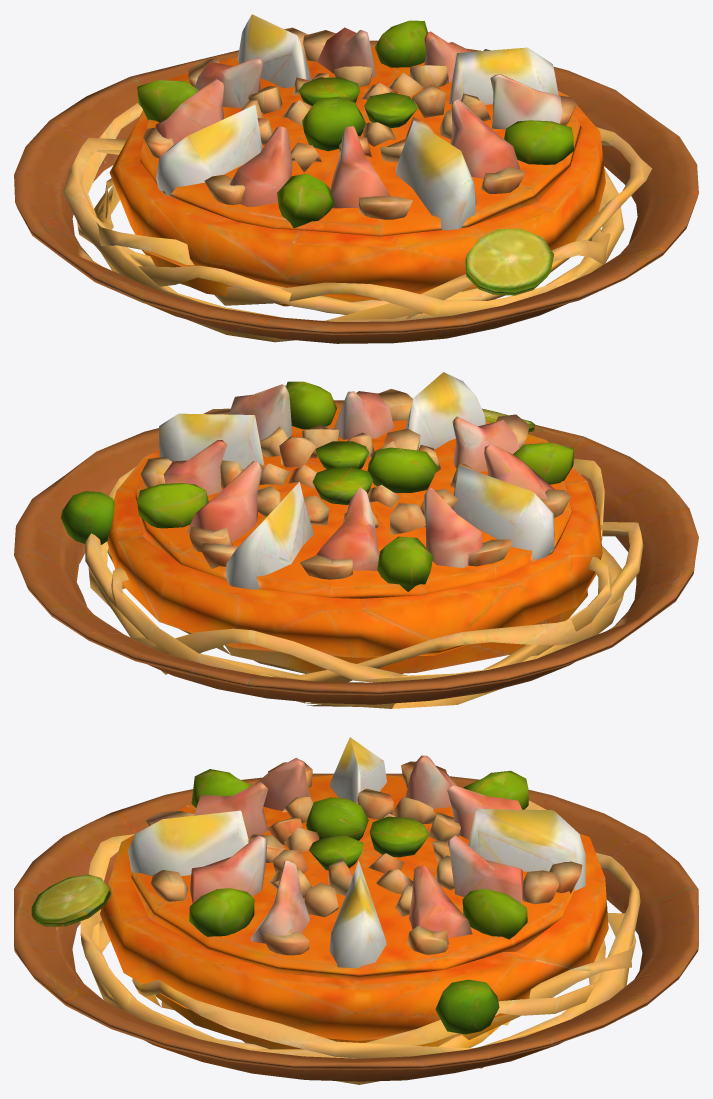
The model's file is palabok.glb.
3 views of the same model, one above another, from view 1: azimuth 30°, elevation 25°; view 2: azimuth 150°, elevation 25°; view 3: azimuth 270°, elevation 25° (orthographic).
Parts seen in each view (by area): view 1: geometry_0; view 2: geometry_0; view 3: geometry_0.
Boxes of the visible parts, x1,y1,x2,y2 form: geometry_0: (14, 14, 698, 343); geometry_0: (14, 372, 698, 708); geometry_0: (14, 737, 698, 1084).
Size of the model in its own units: 1 by 0.2815 by 1.
Materials: 1 (1 with a texture image).
